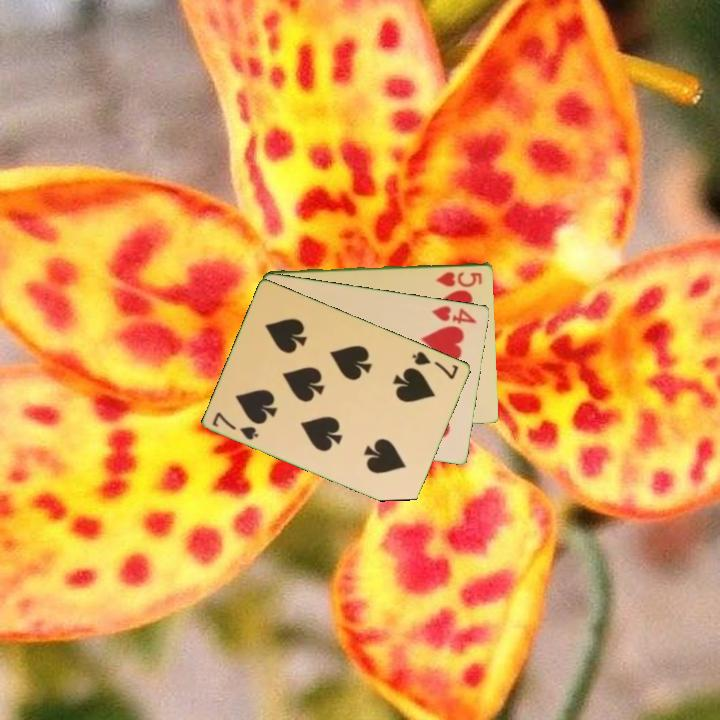4h: (429, 302, 480, 327)
5h: (433, 268, 485, 289)
7s: (409, 347, 462, 382), (209, 408, 262, 443)
